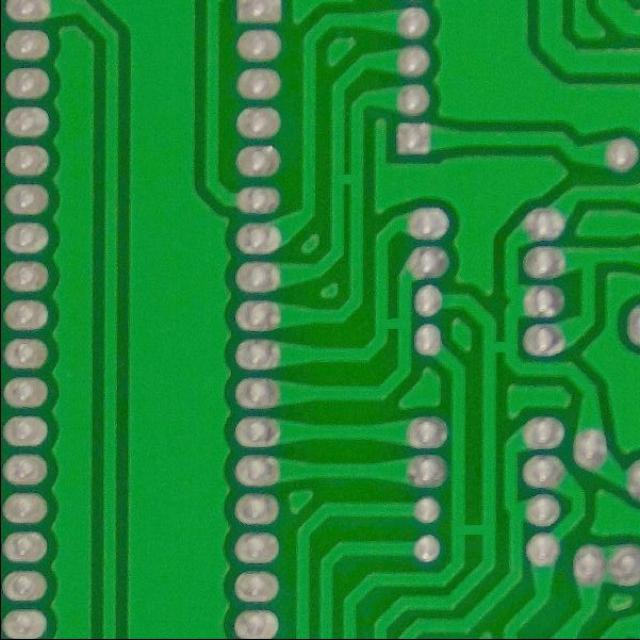Short_Circuit: (441, 509, 504, 550), (322, 158, 372, 198), (368, 303, 418, 342), (474, 329, 525, 364)
